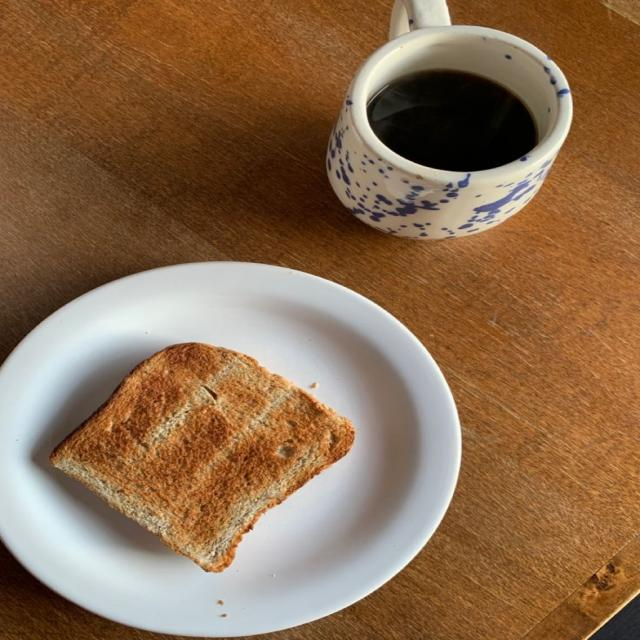toast bread: (50, 343, 354, 571)
